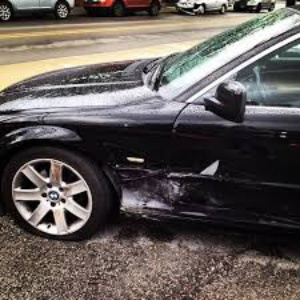door_scratch: (115, 150, 300, 228)
